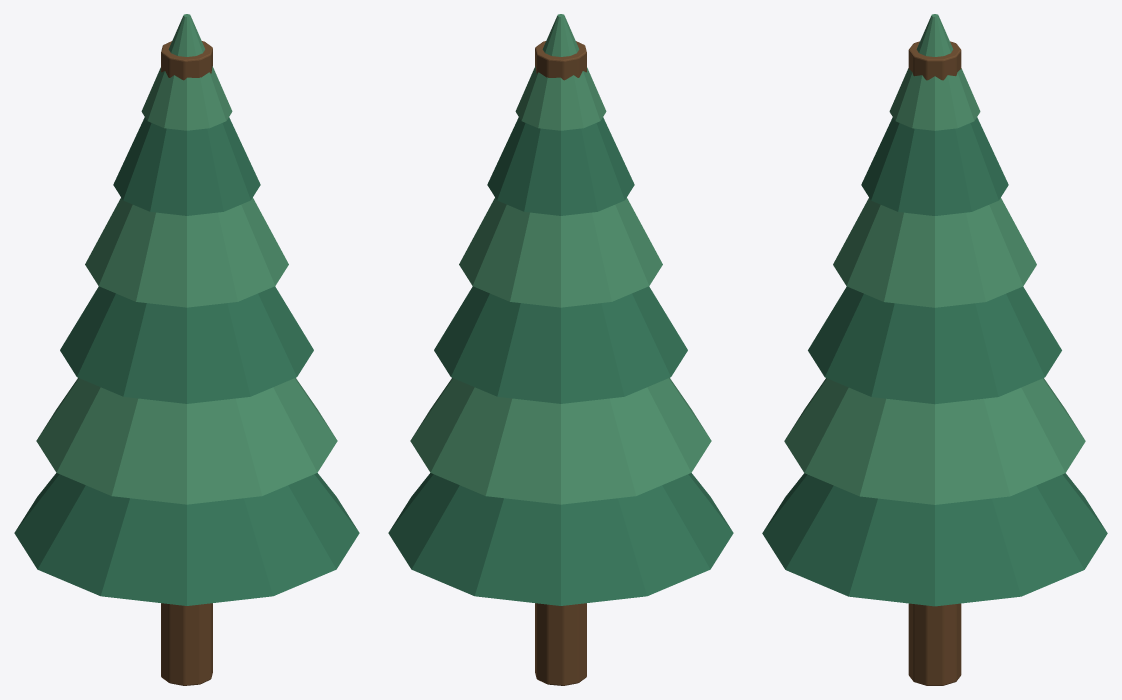
The model's file is pine_tall_9p3m.glb.
The picture shows the model from 3 angles, left to right: view 1: azimuth 30°, elevation 25°; view 2: azimuth 150°, elevation 25°; view 3: azimuth 270°, elevation 25°; orthographic projection.
Visible parts, largest first — view 1: pine_tall_tier_01, pine_tall_tier_02, pine_tall_tier_03, pine_tall_tier_04, pine_tall_tier_05, pine_tall_trunk, pine_tall_tier_06; view 2: pine_tall_tier_01, pine_tall_tier_02, pine_tall_tier_03, pine_tall_tier_04, pine_tall_tier_05, pine_tall_trunk, pine_tall_tier_06; view 3: pine_tall_tier_01, pine_tall_tier_02, pine_tall_tier_03, pine_tall_tier_04, pine_tall_tier_05, pine_tall_trunk, pine_tall_tier_06.
Boxes of the visible parts, left/top/right/bottom form: pine_tall_tier_01: left=14, top=473, right=359, bottom=605; pine_tall_tier_02: left=36, top=378, right=337, bottom=504; pine_tall_tier_03: left=60, top=286, right=313, bottom=403; pine_tall_tier_04: left=85, top=197, right=288, bottom=307; pine_tall_tier_05: left=113, top=117, right=260, bottom=215; pine_tall_trunk: left=161, top=41, right=212, bottom=685; pine_tall_tier_06: left=141, top=14, right=232, bottom=130; pine_tall_tier_01: left=388, top=473, right=733, bottom=605; pine_tall_tier_02: left=410, top=378, right=711, bottom=504; pine_tall_tier_03: left=434, top=286, right=687, bottom=403; pine_tall_tier_04: left=459, top=197, right=662, bottom=307; pine_tall_tier_05: left=487, top=117, right=634, bottom=215; pine_tall_trunk: left=535, top=41, right=586, bottom=685; pine_tall_tier_06: left=515, top=14, right=606, bottom=130; pine_tall_tier_01: left=762, top=473, right=1107, bottom=606; pine_tall_tier_02: left=784, top=378, right=1085, bottom=504; pine_tall_tier_03: left=808, top=286, right=1061, bottom=404; pine_tall_tier_04: left=833, top=198, right=1036, bottom=307; pine_tall_tier_05: left=861, top=117, right=1008, bottom=215; pine_tall_trunk: left=908, top=41, right=961, bottom=685; pine_tall_tier_06: left=889, top=14, right=980, bottom=130.
Size of the model in its own units: 4.4 by 9.28 by 4.4.
